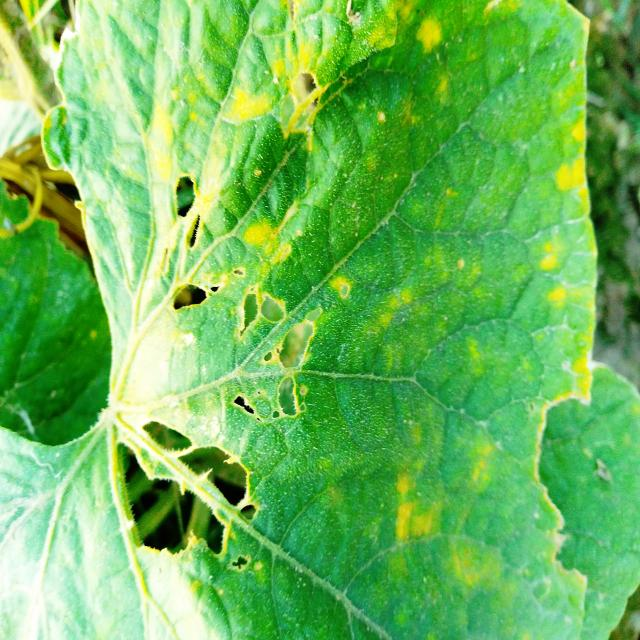Downy-Mildew: (38, 0, 593, 640)
